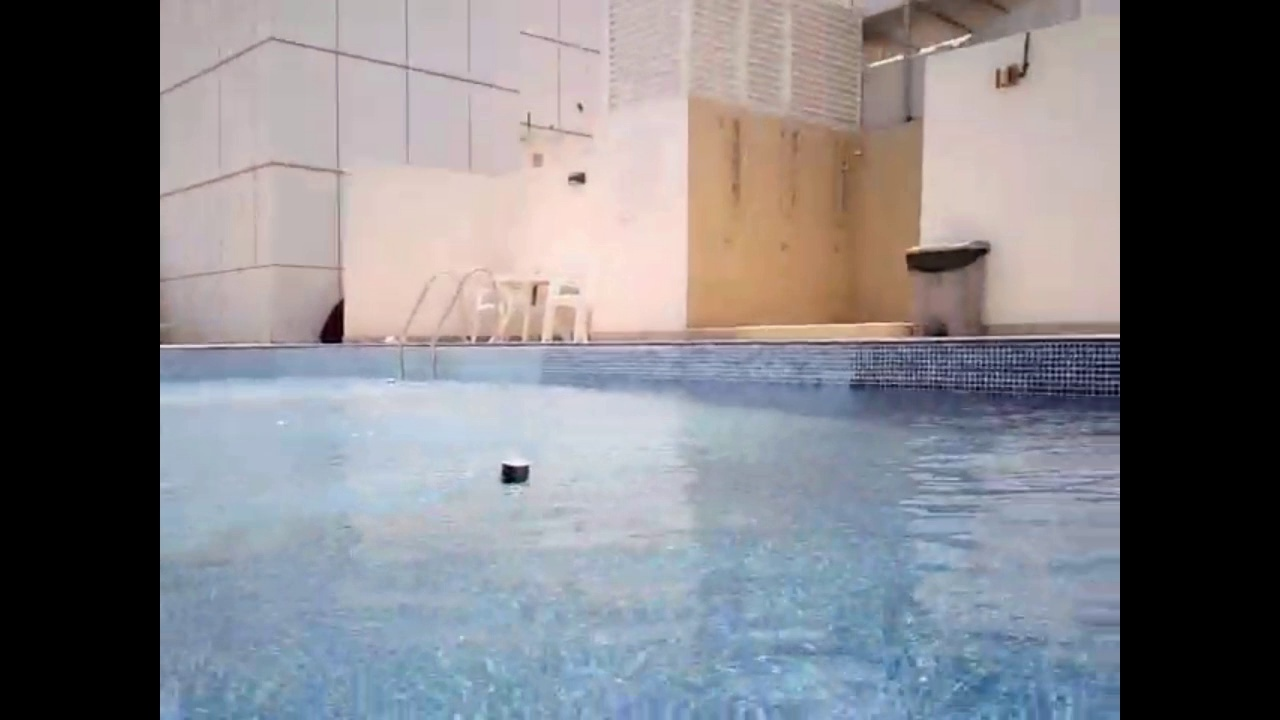debris: (494, 454, 537, 492), (382, 375, 394, 387)
